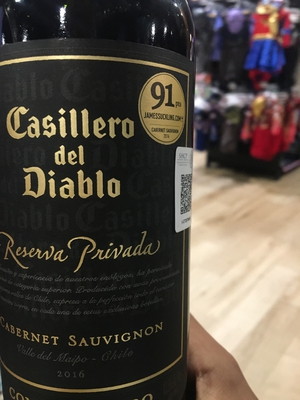casillero del diablo reserva privada cabernet sauvignon: (1, 10, 204, 398)
